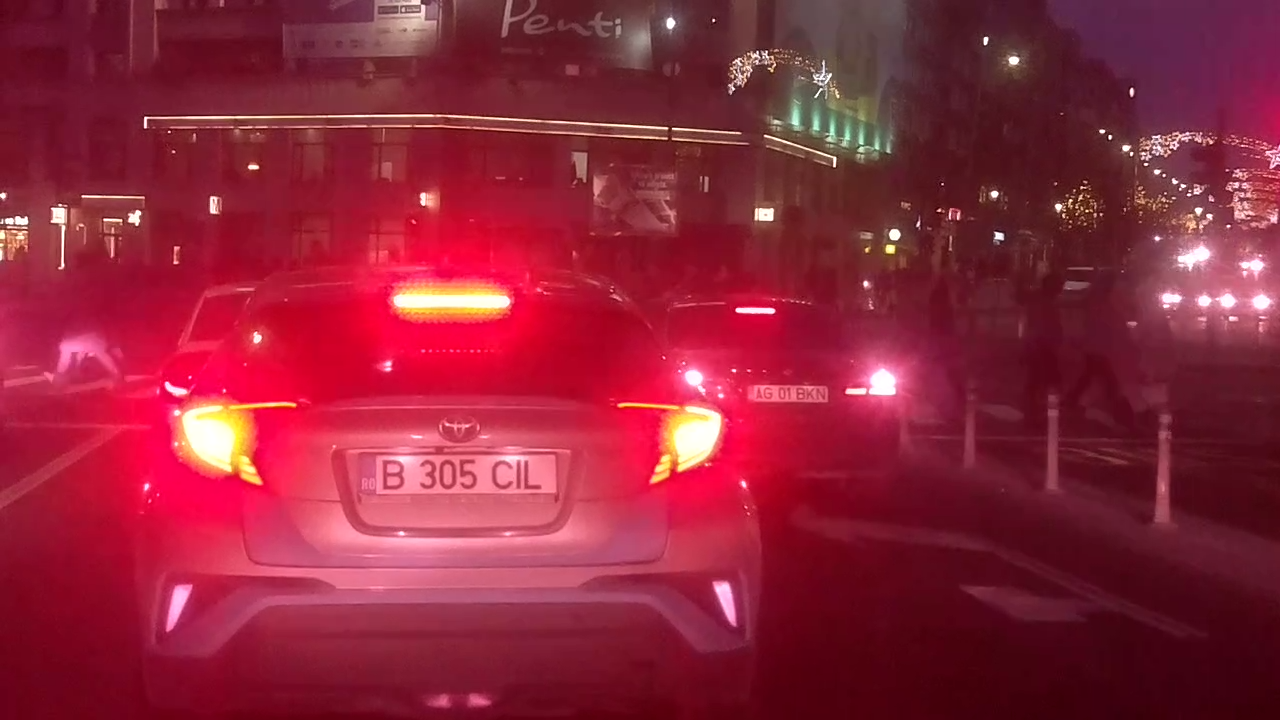license-plate: (354, 448, 562, 500), (745, 383, 831, 405)
